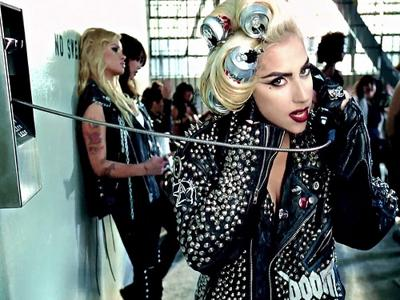person: (169, 18, 395, 298)
